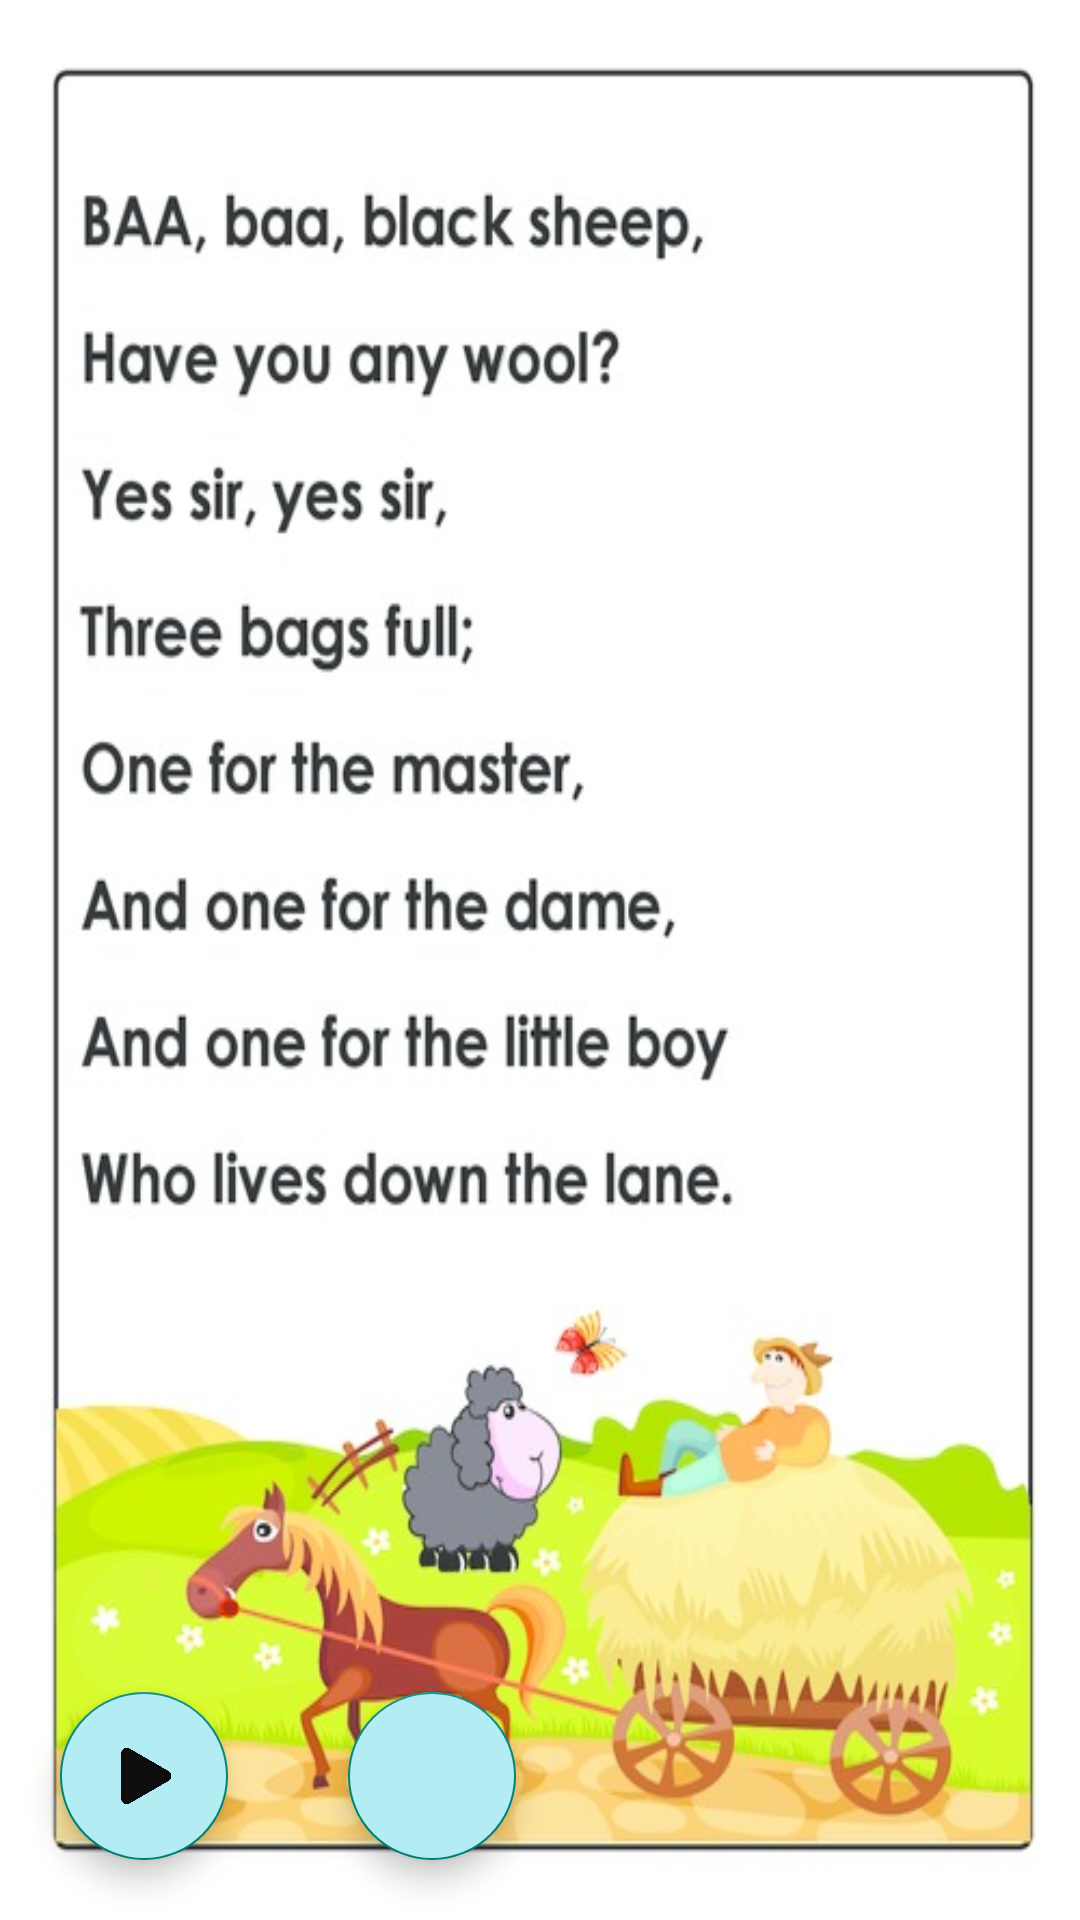

Icons on this 1080px x 1920px Android screen, each with the point to tap as (x=x, y=y):
play: (x=144, y=1776)
